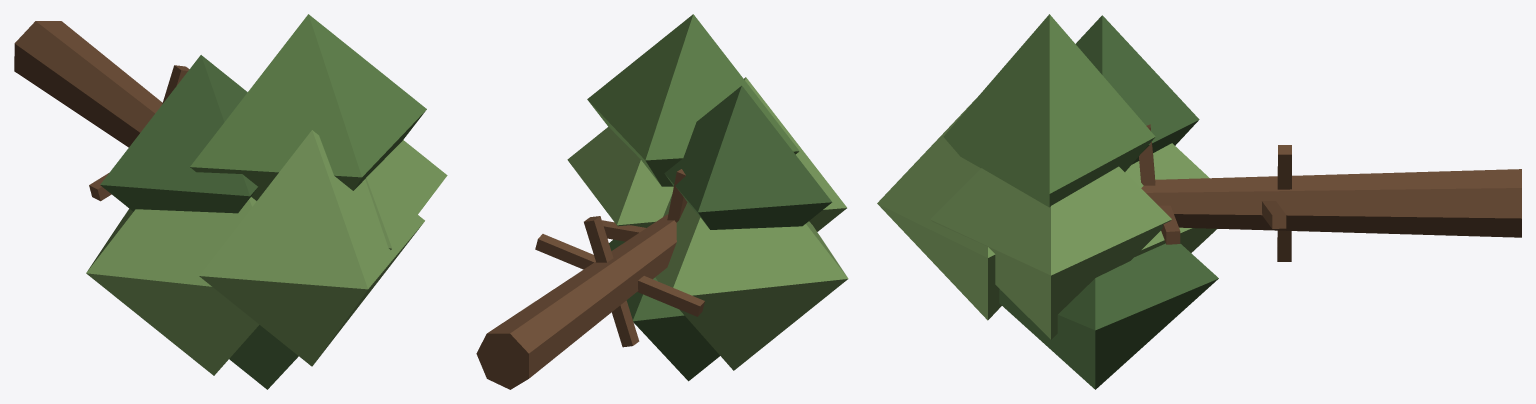
The model's file is worldforge_foliage_61803.obj.
3 renders of one model, left to right at view 1: azimuth 30°, elevation 25°; view 2: azimuth 150°, elevation 25°; view 3: azimuth 270°, elevation 25°, orthographic. The views are drawn at different scales.
Visible parts, largest first — view 1: crownTop, crown_1, crown_3, crown_2, treeTrunk, crown_0, crown_4, branch_0; view 2: crown_3, crown_2, crown_1, treeTrunk, crown_0, crown_4, branch_1, branch_0, crownTop, branch_3, branch_2; view 3: crown_1, treeTrunk, crown_0, crown_4, crownTop, crown_2, crown_3, branch_0, branch_2, branch_1.
Boxes of the visible parts, bbox=[...] form: crownTop: bbox=[199, 130, 424, 366]; crown_1: bbox=[190, 14, 426, 200]; crown_3: bbox=[86, 197, 259, 375]; crown_2: bbox=[100, 55, 257, 213]; treeTrunk: bbox=[14, 21, 162, 147]; crown_0: bbox=[365, 140, 447, 249]; crown_4: bbox=[229, 325, 298, 389]; branch_0: bbox=[162, 65, 189, 103]; crown_3: bbox=[655, 194, 848, 370]; crown_2: bbox=[664, 85, 832, 229]; crown_1: bbox=[587, 14, 799, 186]; treeTrunk: bbox=[476, 214, 676, 389]; crown_0: bbox=[567, 127, 673, 227]; crown_4: bbox=[609, 239, 719, 381]; branch_1: bbox=[535, 234, 704, 316]; branch_0: bbox=[584, 216, 639, 347]; crownTop: bbox=[744, 77, 846, 231]; branch_3: bbox=[602, 220, 645, 241]; branch_2: bbox=[667, 169, 687, 222]; crown_1: bbox=[943, 14, 1155, 207]; treeTrunk: bbox=[1141, 169, 1521, 237]; crown_0: bbox=[930, 166, 1171, 339]; crown_4: bbox=[999, 243, 1218, 389]; crownTop: bbox=[877, 96, 1001, 320]; crown_2: bbox=[1076, 15, 1199, 164]; crown_3: bbox=[1125, 143, 1217, 256]; branch_0: bbox=[1277, 145, 1291, 261]; branch_2: bbox=[1139, 124, 1155, 185]; branch_1: bbox=[1262, 201, 1286, 228].
Bounding box in the file's own units: 3.29 × 3.62 × 5.5.
